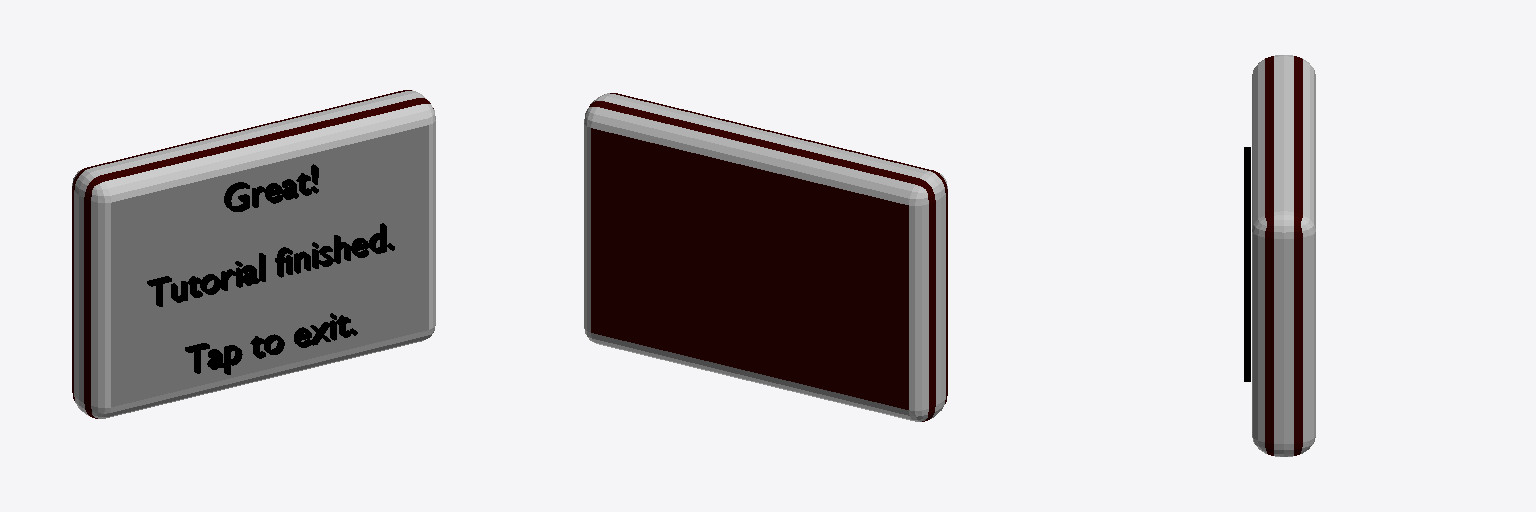
Rendered from box_exit_tutorial.obj.
The picture shows the model from 3 angles: view 1: azimuth 30°, elevation 25°; view 2: azimuth 150°, elevation 25°; view 3: azimuth 270°, elevation 25°; orthographic projection.
Parts seen in each view (by area): view 1: box_exit; view 2: box_exit; view 3: box_exit.
Part boxes in pixels (bbox=[...]): box_exit: bbox=[72, 90, 435, 418]; box_exit: bbox=[584, 93, 947, 421]; box_exit: bbox=[1244, 55, 1315, 456].
Size of the model in its own units: 0.2981 by 0.1988 by 0.0531.